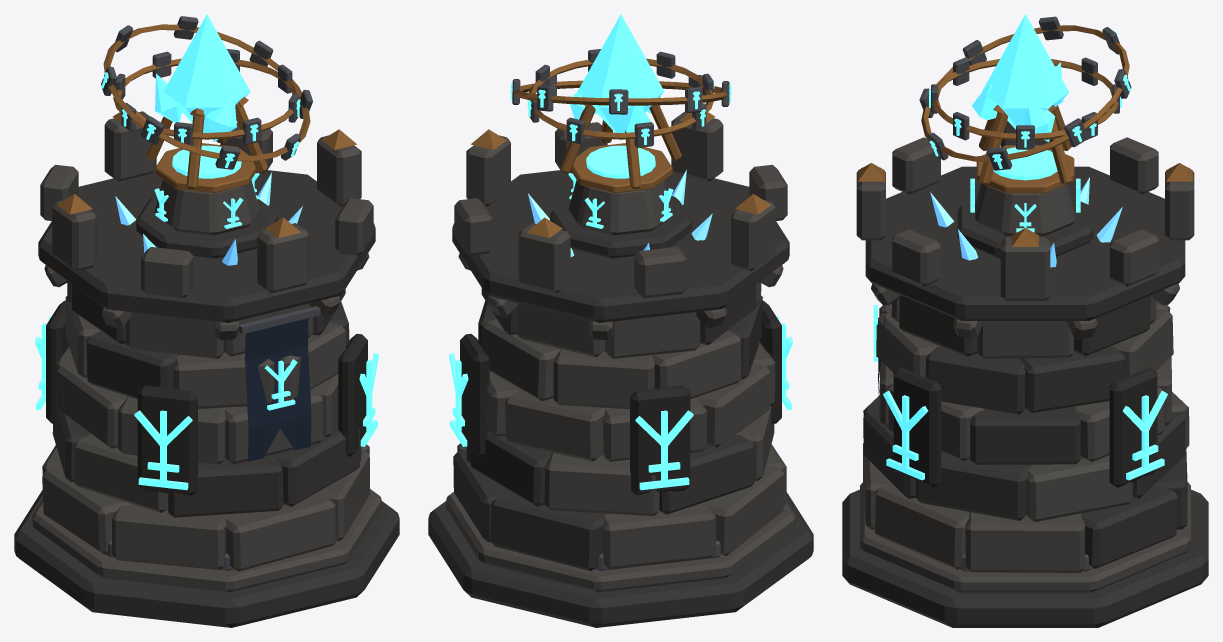
File: rune_tower_lvl3.glb
3 renders of one model, left to right at view 1: azimuth 30°, elevation 25°; view 2: azimuth 150°, elevation 25°; view 3: azimuth 270°, elevation 25°, orthographic.
Visible parts, largest first — view 1: Platform, Plinth, Plinth_Step, Banner, Block_0_5, Block_0_6, Block_1_5, RuneStone_3, Crystal_Main, Block_3_4, Block_3_5, Block_0_4 (+32 smaller); view 2: Platform, Plinth, Plinth_Step, Block_0_2, Block_0_3, Block_1_2, Block_2_2, Block_3_2, RuneStone_2, Crystal_Main, Block_1_3, Block_3_3 (+33 smaller); view 3: Platform, Plinth, Plinth_Step, Block_0_0, Block_2_0, Block_1_7, Block_0_1, Block_0_7, Block_3_0, Block_3_7, Crystal_Main, Block_1_0 (+33 smaller).
Boxes of the visible parts, bbox=[...] form: Platform: bbox=[38, 170, 375, 322]; Plinth: bbox=[14, 490, 399, 627]; Plinth_Step: bbox=[32, 489, 381, 592]; Banner: bbox=[245, 318, 311, 461]; Block_0_5: bbox=[111, 504, 226, 569]; Block_0_6: bbox=[225, 493, 336, 571]; Block_1_5: bbox=[167, 455, 283, 517]; RuneStone_3: bbox=[137, 385, 197, 495]; Crystal_Main: bbox=[163, 14, 250, 132]; Block_3_4: bbox=[86, 330, 180, 398]; Block_3_5: bbox=[172, 352, 274, 408]; Block_0_4: bbox=[42, 466, 130, 554]; Platform: bbox=[452, 170, 789, 322]; Plinth: bbox=[428, 492, 813, 627]; Plinth_Step: bbox=[446, 492, 795, 592]; Block_0_2: bbox=[490, 490, 607, 570]; Block_0_3: bbox=[602, 502, 715, 569]; Block_1_2: bbox=[544, 452, 659, 516]; Block_2_2: bbox=[505, 389, 605, 461]; Block_3_2: bbox=[553, 349, 654, 409]; RuneStone_2: bbox=[630, 385, 690, 495]; Crystal_Main: bbox=[577, 14, 664, 132]; Block_1_3: bbox=[659, 435, 754, 514]; Block_3_3: bbox=[652, 330, 741, 399]; Platform: bbox=[865, 166, 1185, 320]; Plinth: bbox=[842, 489, 1208, 627]; Plinth_Step: bbox=[860, 482, 1190, 592]; Block_0_0: bbox=[965, 512, 1084, 572]; Block_2_0: bbox=[970, 406, 1080, 464]; Block_1_7: bbox=[916, 452, 1033, 520]; Block_0_1: bbox=[1081, 486, 1177, 568]; Block_0_7: bbox=[875, 483, 969, 569]; Block_3_0: bbox=[1018, 346, 1125, 412]; Block_3_7: bbox=[925, 346, 1025, 414]; Crystal_Main: bbox=[981, 14, 1069, 129]; Block_1_0: bbox=[1027, 455, 1132, 521].
Size of the model in its own units: 2.49 by 4.06 by 2.49.
